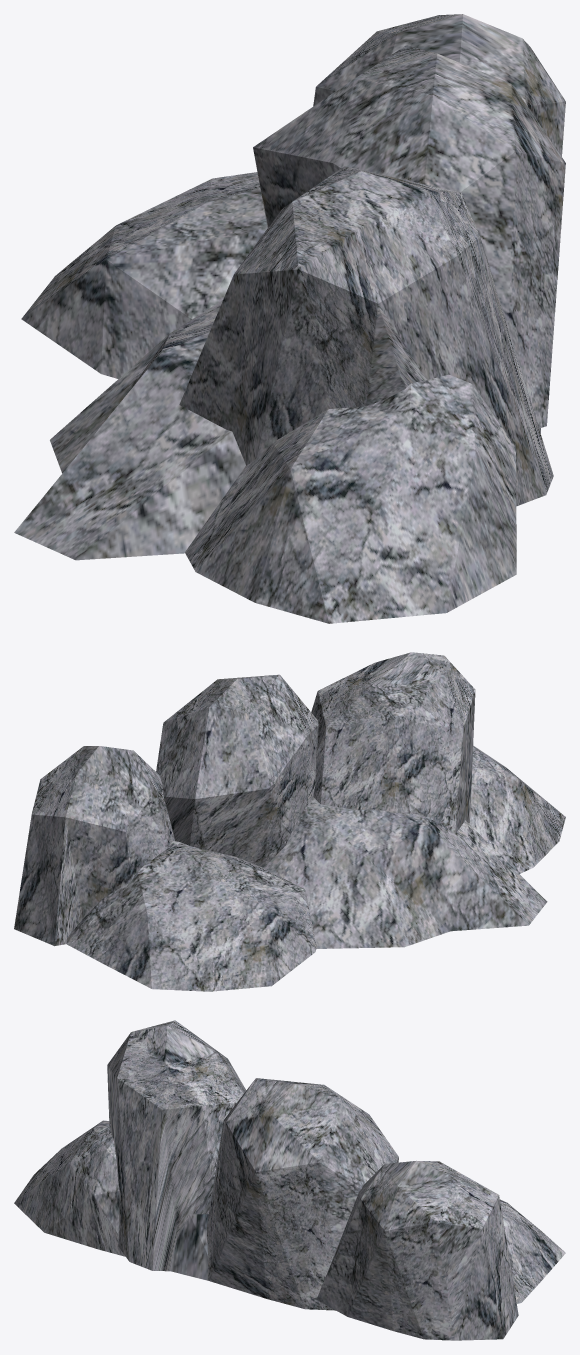
File: des_rockgp2_07.obj
3 renders of one model, top to bottom at view 1: azimuth 30°, elevation 25°; view 2: azimuth 150°, elevation 25°; view 3: azimuth 270°, elevation 25°, orthographic. The views are drawn at different scales.
Parts seen in each view (by area): view 1: des_rockgp2_07; view 2: des_rockgp2_07; view 3: des_rockgp2_07.
Boxes of the visible parts, x1,y1,x2,y2 form: des_rockgp2_07: (14, 14, 565, 623); des_rockgp2_07: (14, 652, 565, 991); des_rockgp2_07: (14, 1020, 565, 1340).
Bounding box in the file's own units: 46.4 × 23.44 × 56.96.
2 materials, 2 textured.
